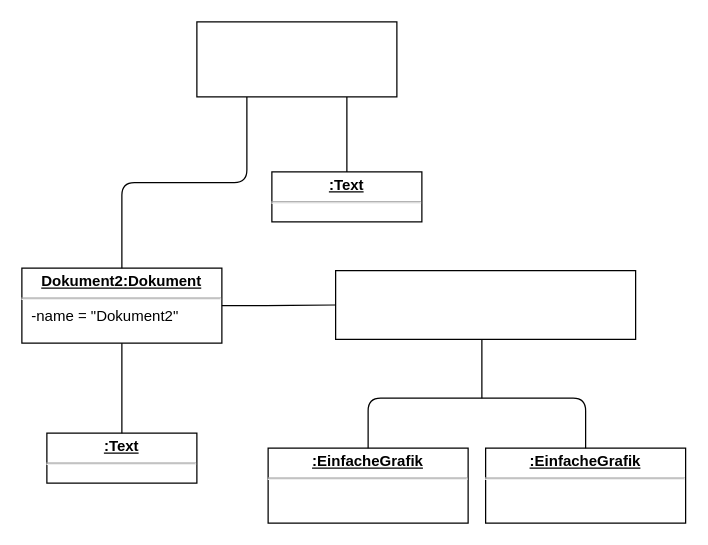
Some shapes in this 708 by 545 pixel diagram are drawn without their labels. Here are the shapes that lost their labels. From the top down, the centre of each, then its label:
point 296,59: Dokument1:Dokument -name = "Dokument1"
point 485,304: :ZusammengesetzteGrafik
